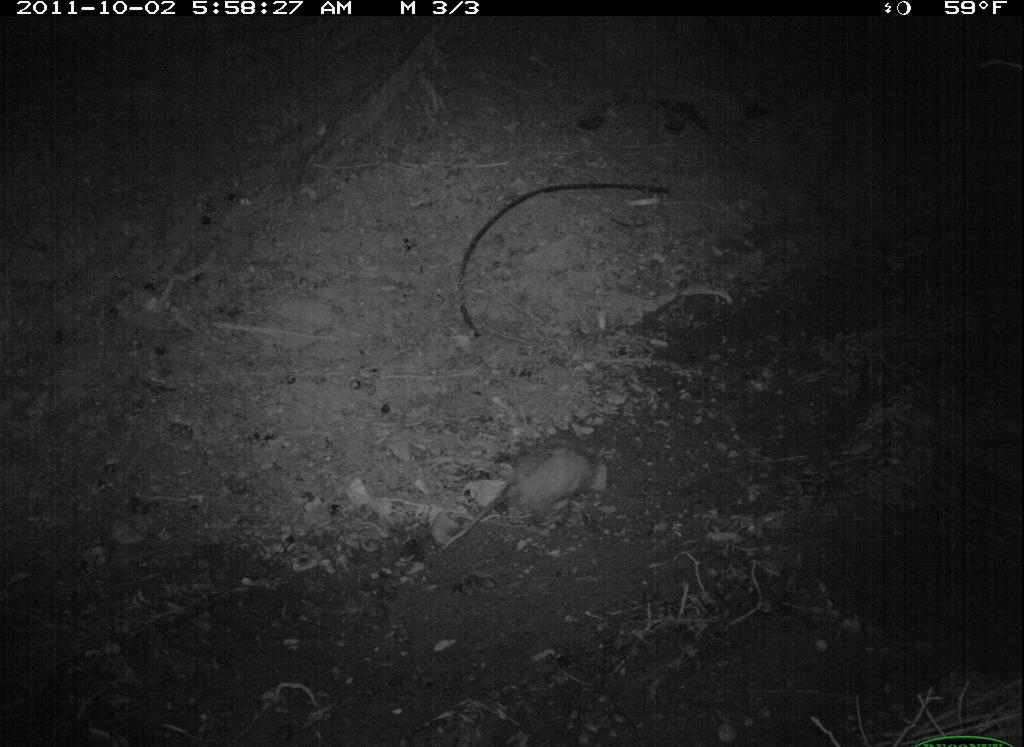opossum: (437, 443, 614, 560)
